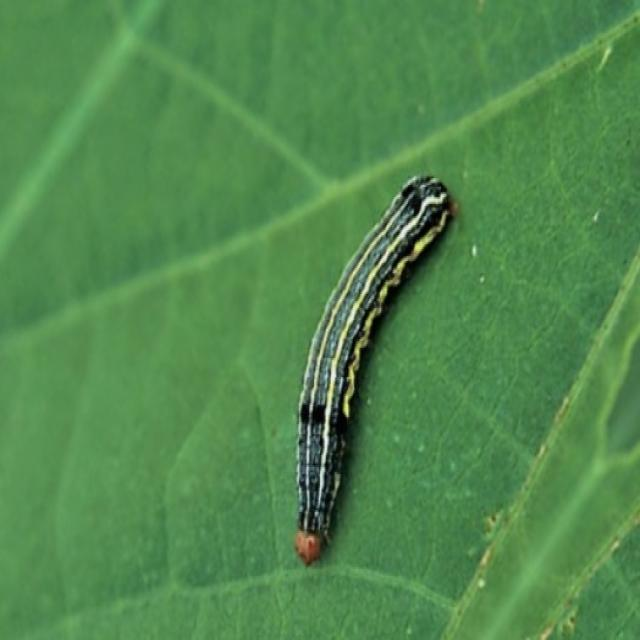Armyworm: (277, 124, 473, 572)
